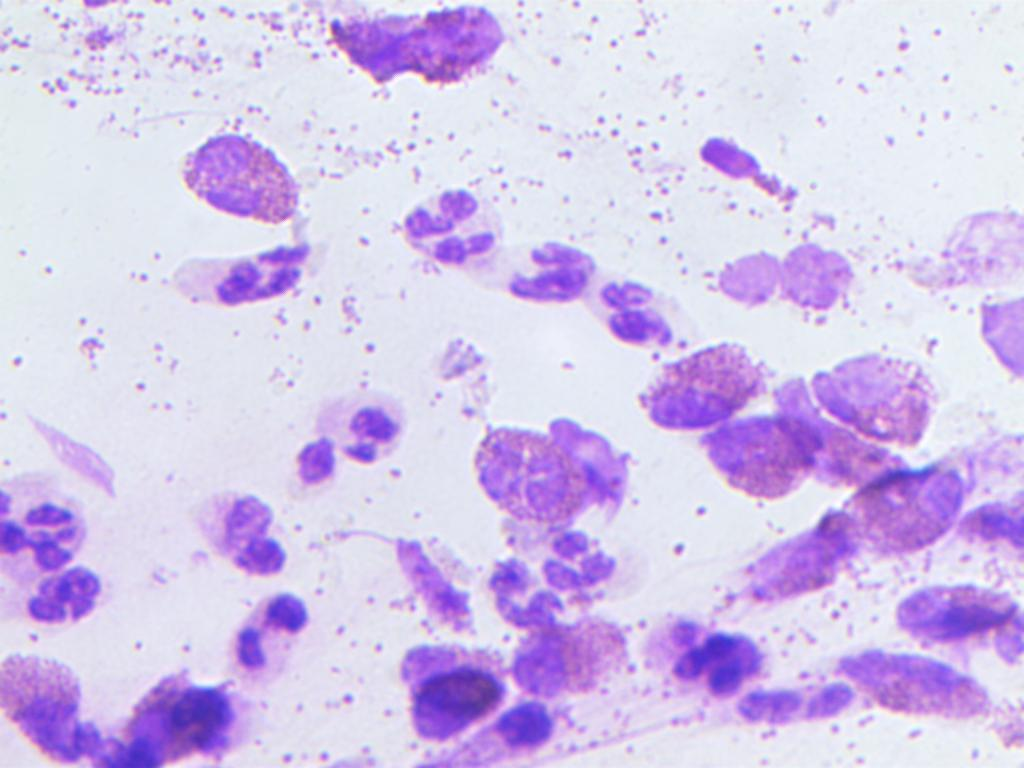artifact: (898, 198, 1024, 306), (709, 519, 851, 601), (718, 233, 856, 317), (693, 128, 809, 214), (394, 533, 480, 631), (979, 288, 1024, 412)
eosinophil: (473, 420, 635, 529), (764, 372, 909, 488), (839, 632, 996, 724), (110, 662, 240, 768), (387, 631, 506, 742), (3, 642, 110, 764), (177, 130, 307, 227), (810, 353, 942, 446), (842, 462, 973, 554), (894, 563, 1021, 653), (638, 337, 761, 429), (698, 404, 809, 502), (510, 616, 631, 692), (733, 682, 853, 722)
mast_cell: (319, 3, 510, 92)
neutrophil: (0, 448, 117, 584), (288, 387, 410, 488), (646, 604, 763, 700), (394, 183, 518, 273), (188, 483, 300, 577), (215, 587, 327, 681), (426, 696, 566, 768), (166, 240, 321, 305), (9, 557, 121, 638), (501, 230, 608, 313), (538, 530, 653, 601), (586, 266, 679, 352), (488, 553, 571, 634)
